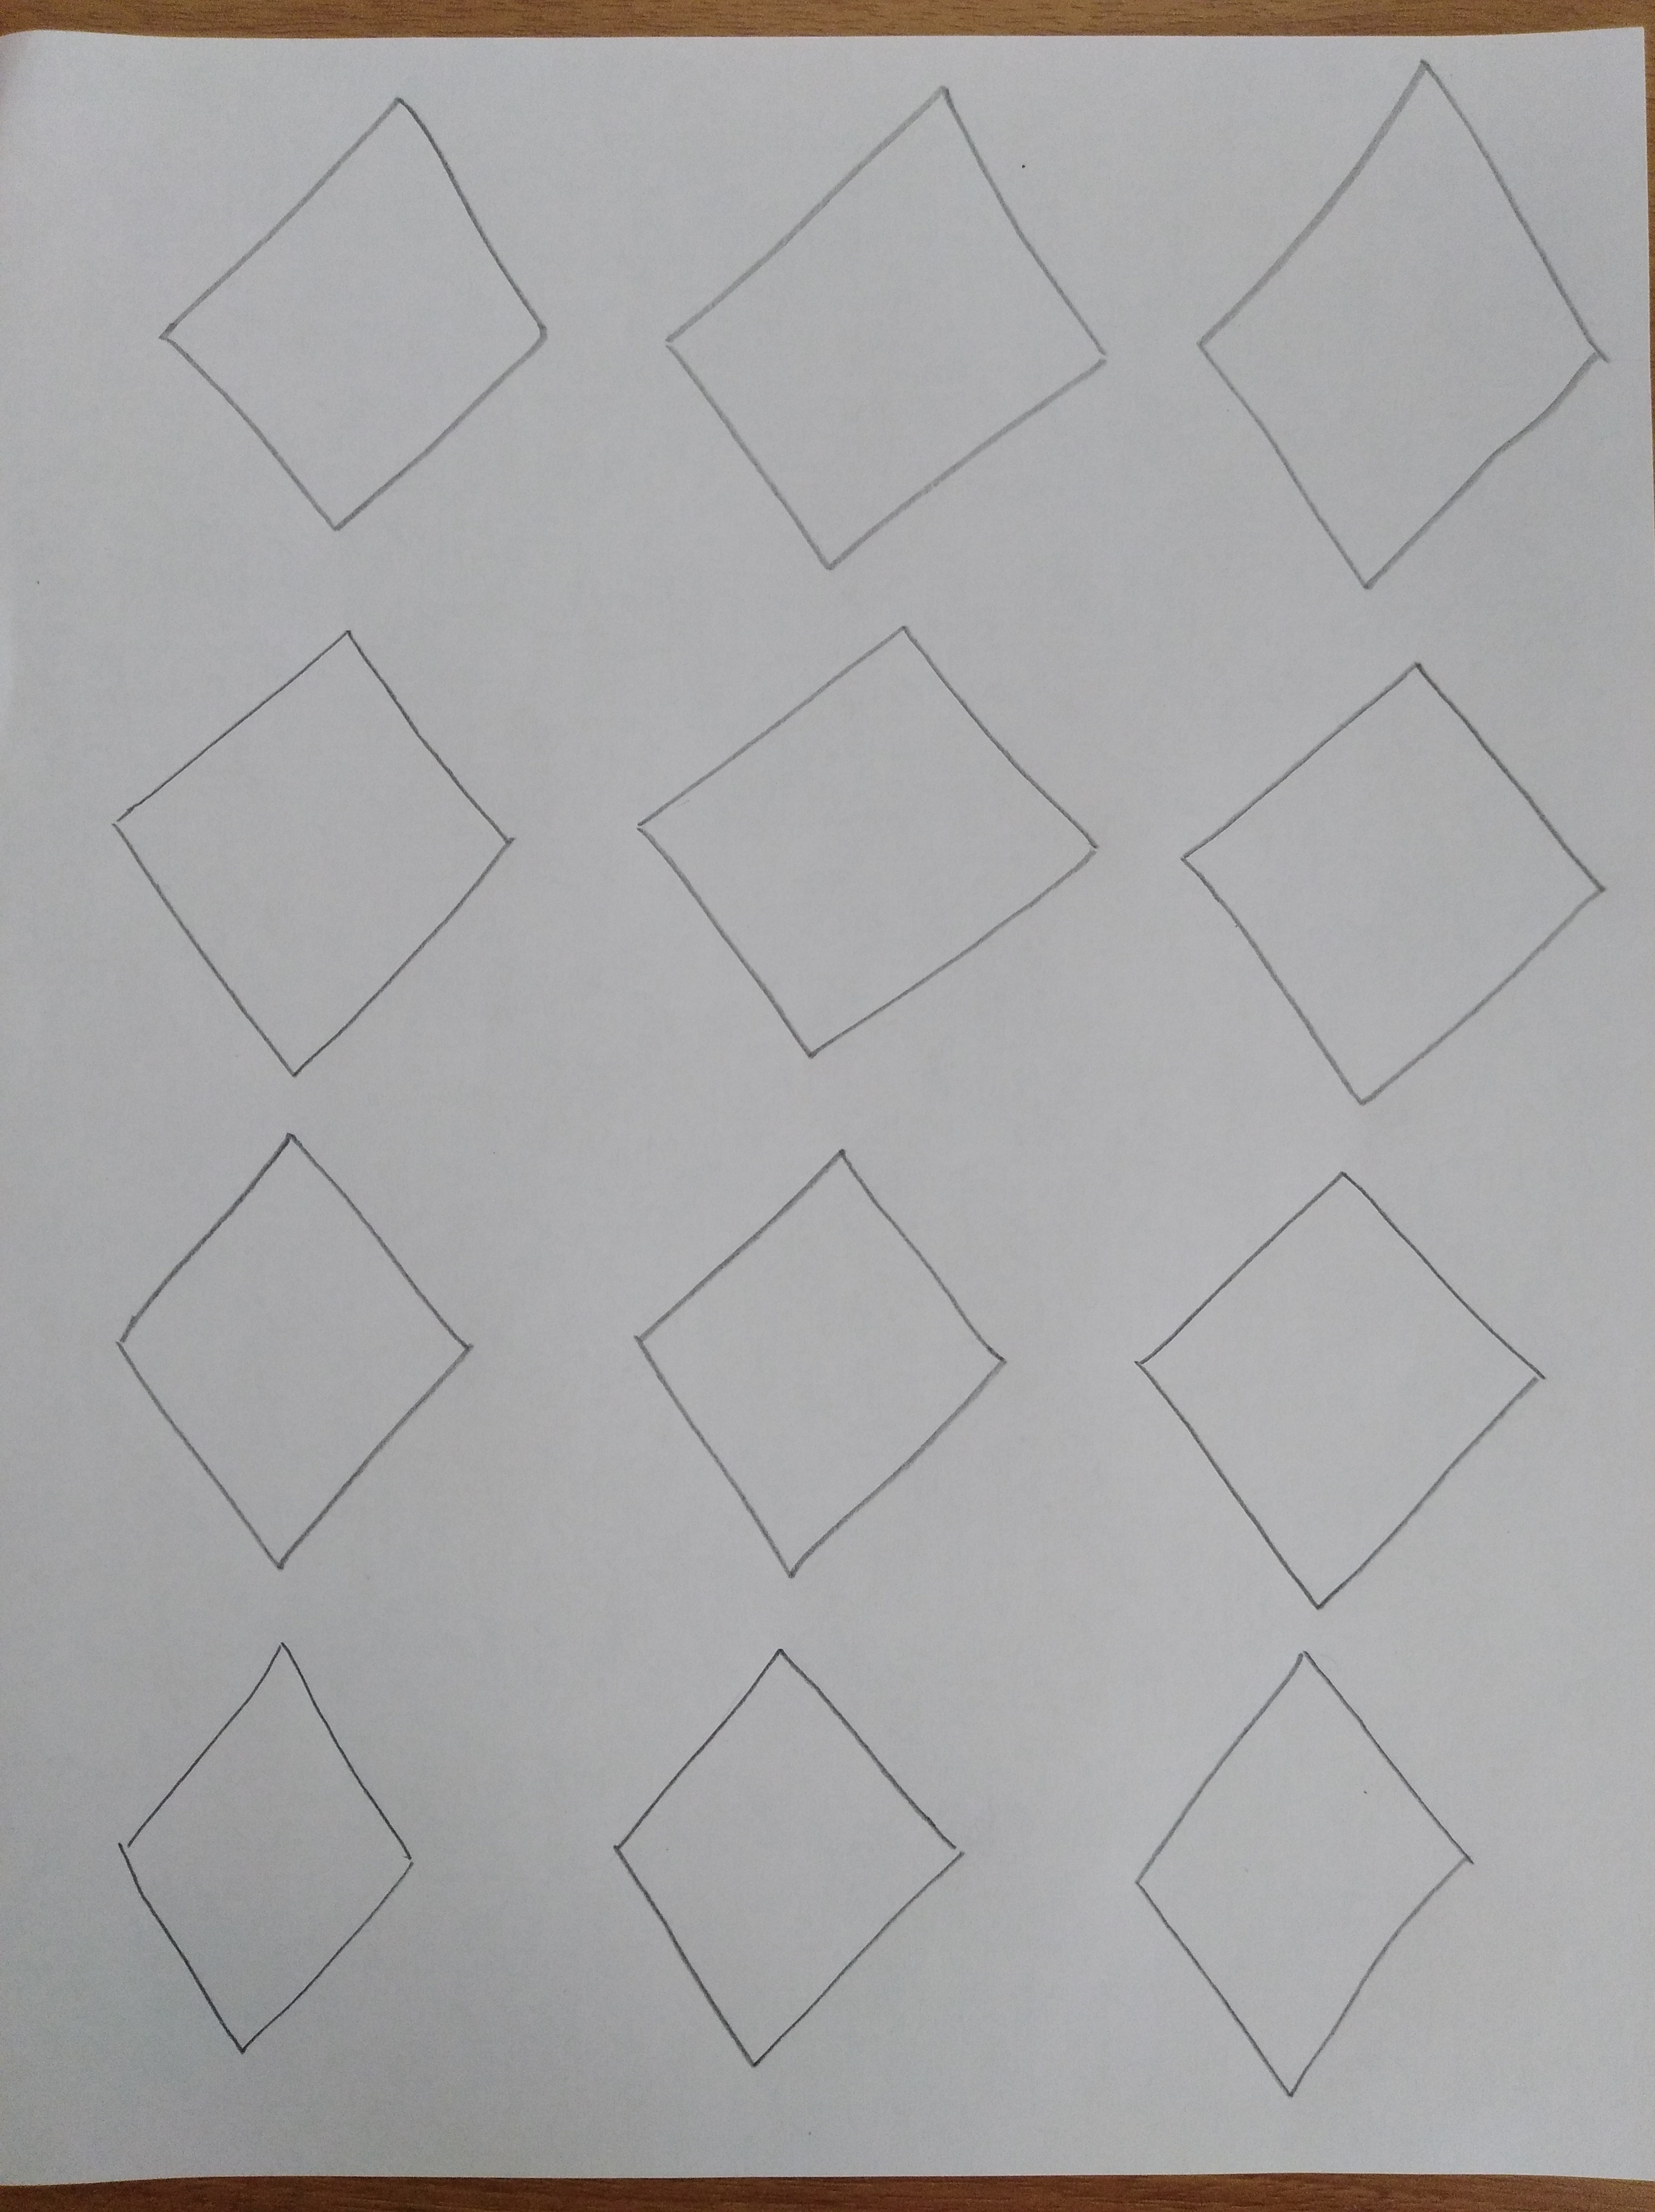decision: (1175, 47, 1625, 605), (647, 59, 1121, 582), (608, 608, 1118, 1074), (127, 57, 603, 551), (89, 605, 556, 1088), (1165, 643, 1627, 1123), (1093, 1156, 1568, 1619), (70, 1110, 516, 1588), (600, 1124, 1034, 1597), (1106, 1642, 1511, 2118), (591, 1623, 974, 2085), (92, 1614, 450, 2071)
